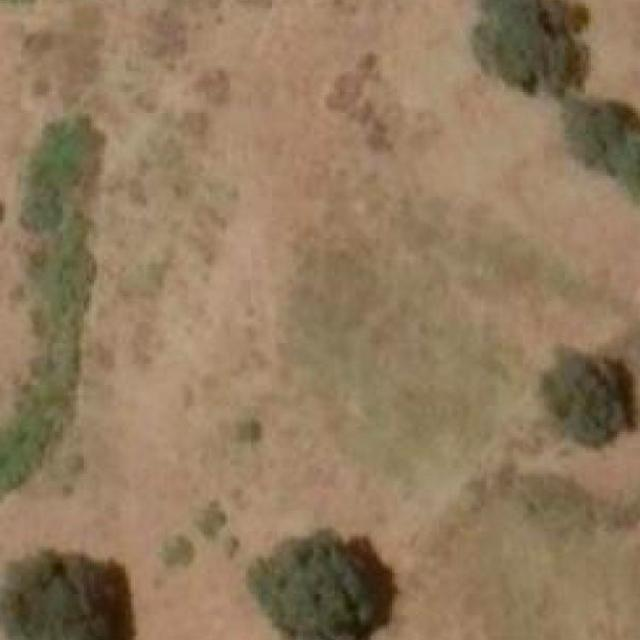Tree: (260, 528, 396, 640), (5, 552, 136, 640), (478, 0, 596, 95), (553, 356, 630, 437), (572, 98, 633, 170), (238, 417, 266, 446)
